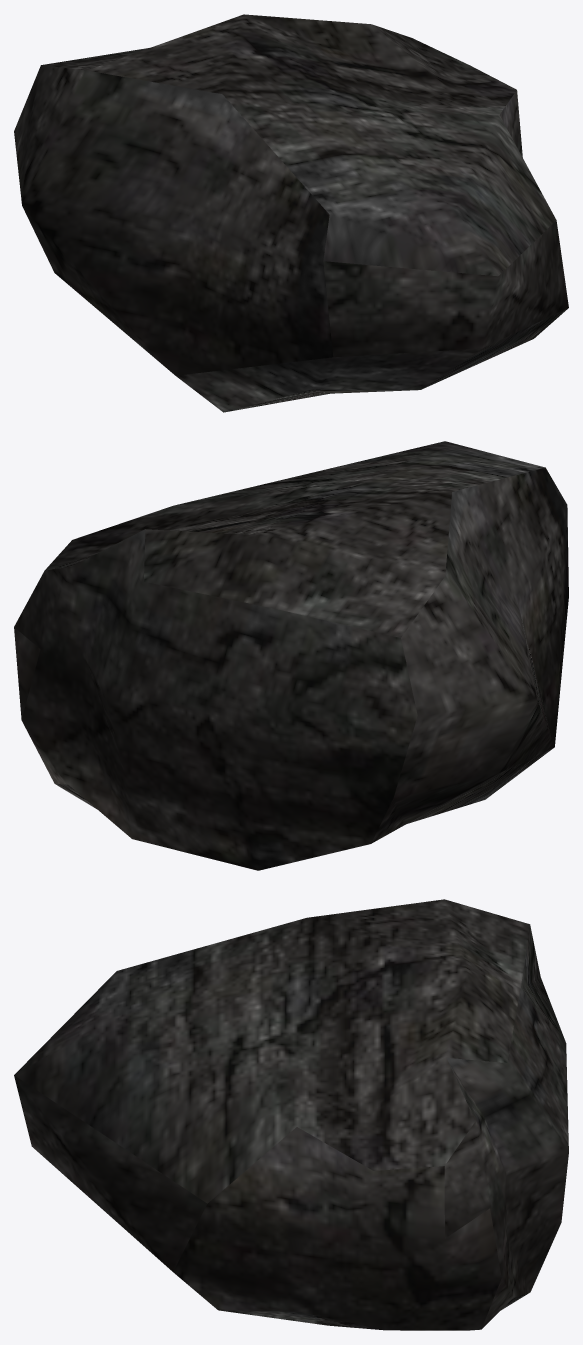
File: Rock 7.glb
The picture shows the model from 3 angles, top to bottom: view 1: azimuth 30°, elevation 25°; view 2: azimuth 150°, elevation 25°; view 3: azimuth 270°, elevation 25°; orthographic projection. The views are drawn at different scales.
Parts seen in each view (by area): view 1: rock_7_low; view 2: rock_7_low; view 3: rock_7_low.
Boxes of the visible parts, x1,y1,x2,y2 form: rock_7_low: [14, 14, 568, 412]; rock_7_low: [14, 441, 568, 870]; rock_7_low: [14, 899, 568, 1330].
Size of the model in its own units: 0.1072 by 0.0669 by 0.1089.
Materials: 1 (1 with a texture image).
